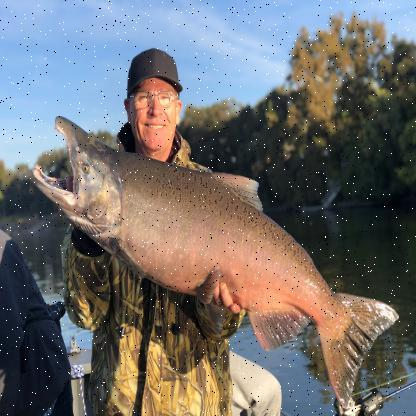fish: (30, 113, 400, 409)
